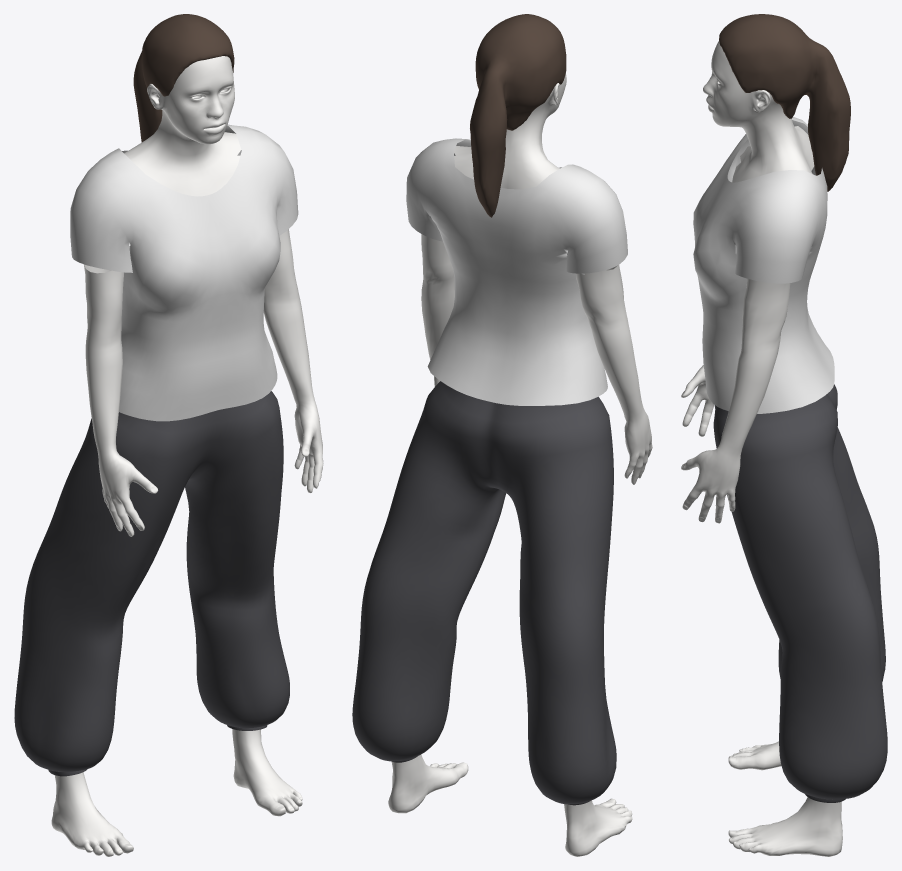
The model's file is mannequin-female-relaxed.glb.
3 views of the same model, side by side, from view 1: azimuth 30°, elevation 25°; view 2: azimuth 150°, elevation 25°; view 3: azimuth 270°, elevation 25° (orthographic). The views are drawn at different scales.
Parts seen in each view (by area): view 1: Pants, Shirt, Body, HairSculpt; view 2: Pants, Shirt, Body, HairSculpt; view 3: Pants, Shirt, Body, HairSculpt.
Part boxes in pixels (bbox=[...]): Pants: bbox=[14, 391, 289, 776]; Shirt: bbox=[70, 124, 298, 421]; Body: bbox=[51, 56, 323, 856]; HairSculpt: bbox=[133, 14, 234, 142]; Pants: bbox=[352, 381, 616, 805]; Shirt: bbox=[406, 138, 627, 405]; Body: bbox=[388, 73, 652, 856]; HairSculpt: bbox=[470, 14, 566, 217]; Pants: bbox=[713, 384, 887, 802]; Shirt: bbox=[693, 117, 834, 413]; Body: bbox=[681, 40, 842, 856]; HairSculpt: bbox=[719, 14, 850, 191].
Bounding box in the file's own units: 0.5402 × 1.65 × 0.3883.
